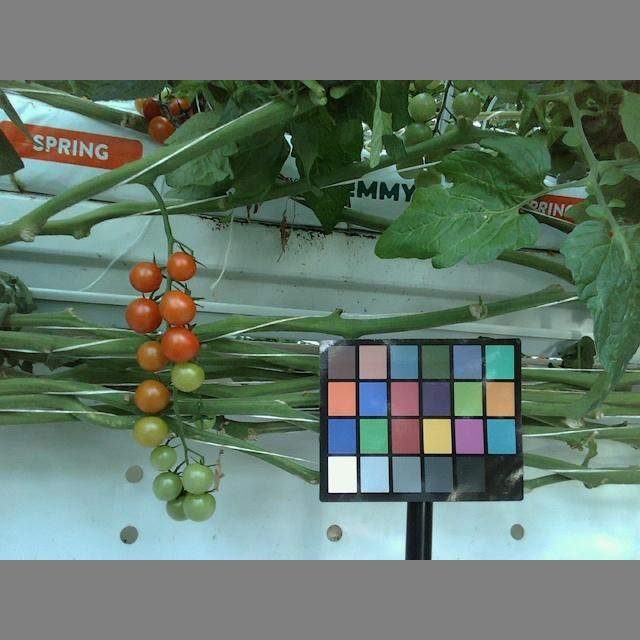green: (131, 413, 168, 450), (184, 488, 218, 521), (406, 91, 441, 122), (447, 91, 483, 121), (153, 471, 184, 504), (182, 461, 215, 492), (170, 362, 205, 391), (147, 442, 177, 473), (401, 122, 434, 148)
pink: (123, 295, 163, 334), (159, 288, 198, 326), (160, 327, 201, 363), (132, 378, 171, 411), (128, 261, 164, 292), (137, 340, 170, 372), (167, 247, 198, 280), (146, 116, 177, 143)
